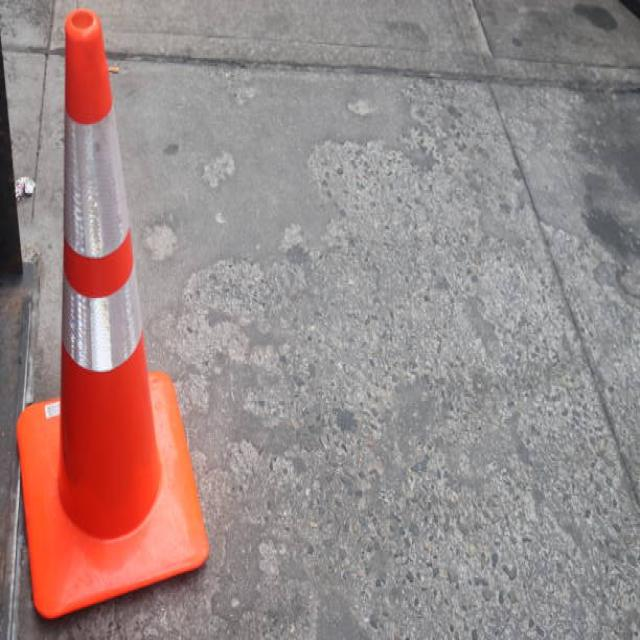Traffic Cone: (0, 1, 220, 640)
